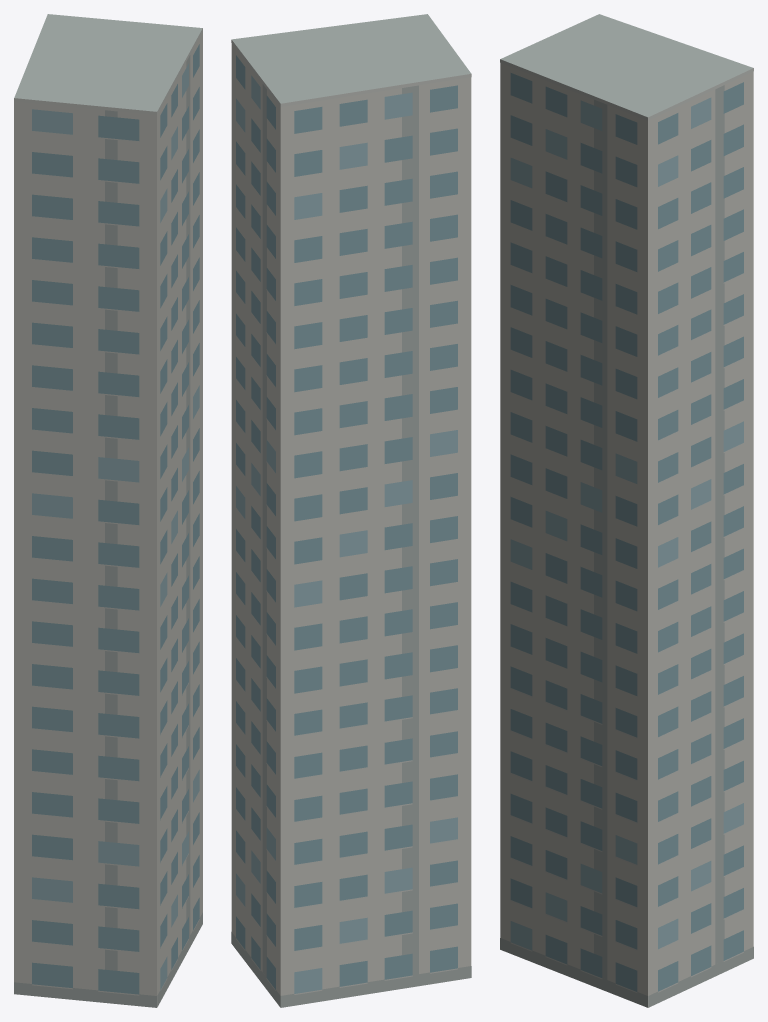
The model's file is survey-upis-32972629.glb.
The picture shows the model from 3 angles, left to right: view 1: azimuth 30°, elevation 25°; view 2: azimuth 150°, elevation 25°; view 3: azimuth 270°, elevation 25°; orthographic projection.
Visible parts, largest first — view 1: survey-upis-32972629.tmp; view 2: survey-upis-32972629.tmp; view 3: survey-upis-32972629.tmp.
Part boxes in pixels (left/top/right/bottom): survey-upis-32972629.tmp: left=14, top=14, right=202, bottom=1007; survey-upis-32972629.tmp: left=231, top=14, right=471, bottom=1007; survey-upis-32972629.tmp: left=500, top=14, right=753, bottom=1007.
Size of the model in its own units: 15.96 by 64.05 by 16.54.
